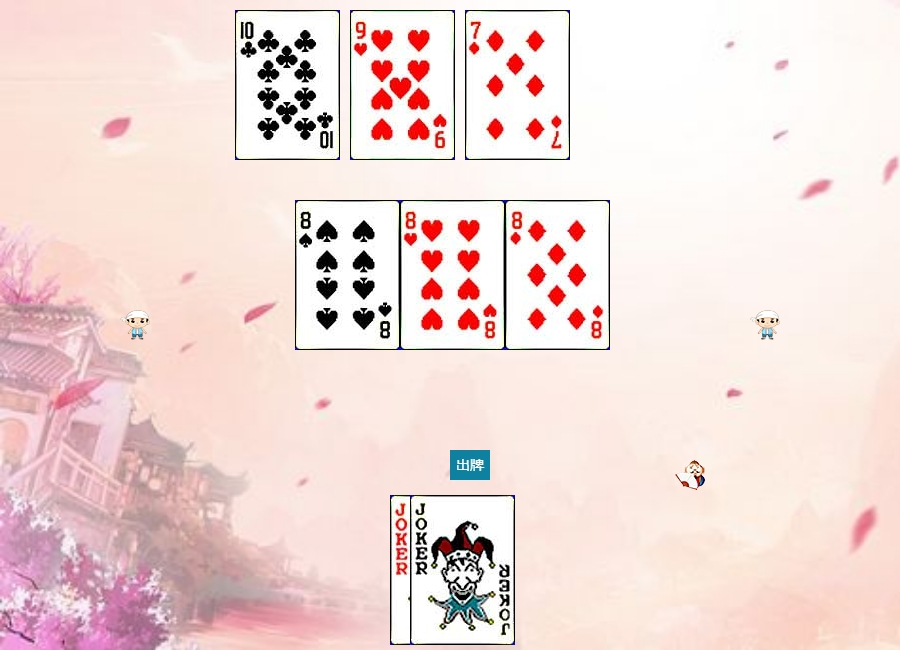10~2: (235, 10, 340, 160)
17~3: (410, 495, 515, 645)
18~4: (390, 495, 495, 645)
7~1: (465, 10, 570, 160)
8~1: (505, 200, 610, 350)
8~3: (400, 200, 505, 350)
8~4: (295, 200, 400, 350)
9~3: (350, 10, 455, 160)
